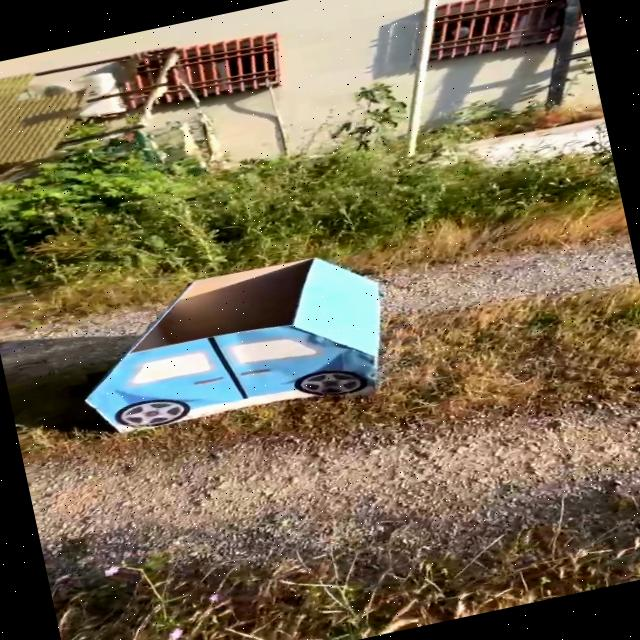blue_car: (0, 165, 459, 524)
